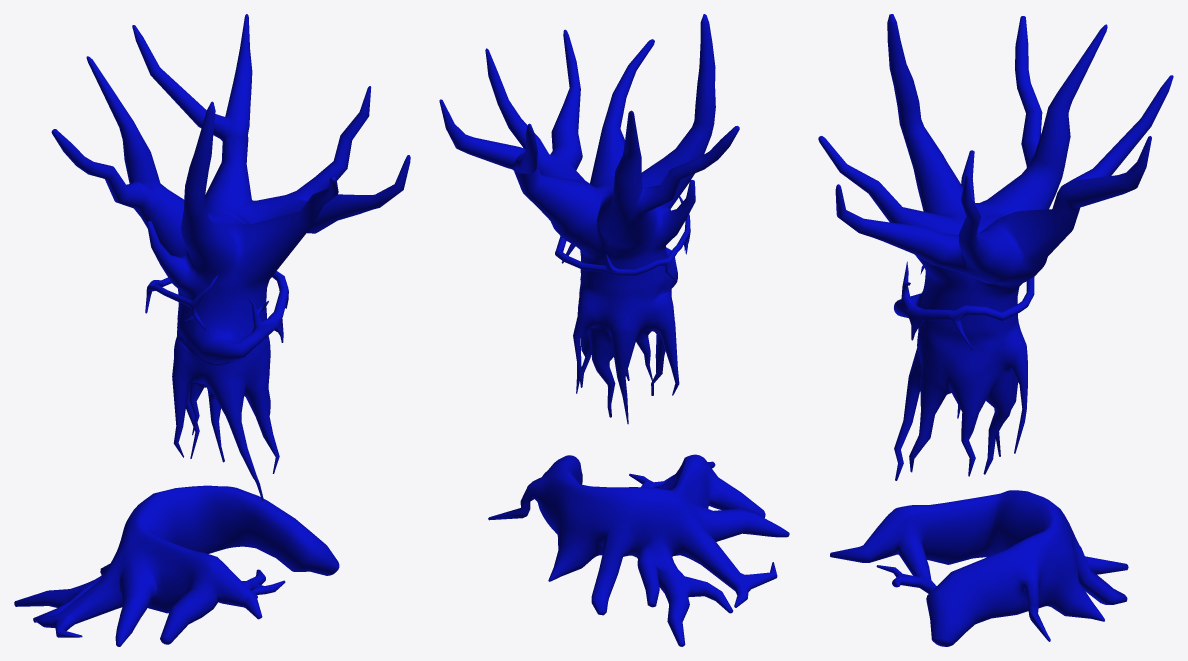
File: tree_of_life_2.fbx
3 renders of one model, left to right at view 1: azimuth 30°, elevation 25°; view 2: azimuth 150°, elevation 25°; view 3: azimuth 270°, elevation 25°, orthographic. The views are drawn at different scales.
Visible parts, largest first — view 1: Group62257; view 2: Group62257; view 3: Group62257.
Boxes of the visible parts, bbox=[...] form: Group62257: bbox=[14, 14, 410, 646]; Group62257: bbox=[439, 14, 789, 646]; Group62257: bbox=[818, 14, 1173, 646].
Bounding box in the file's own units: 794 × 1377 × 738.
